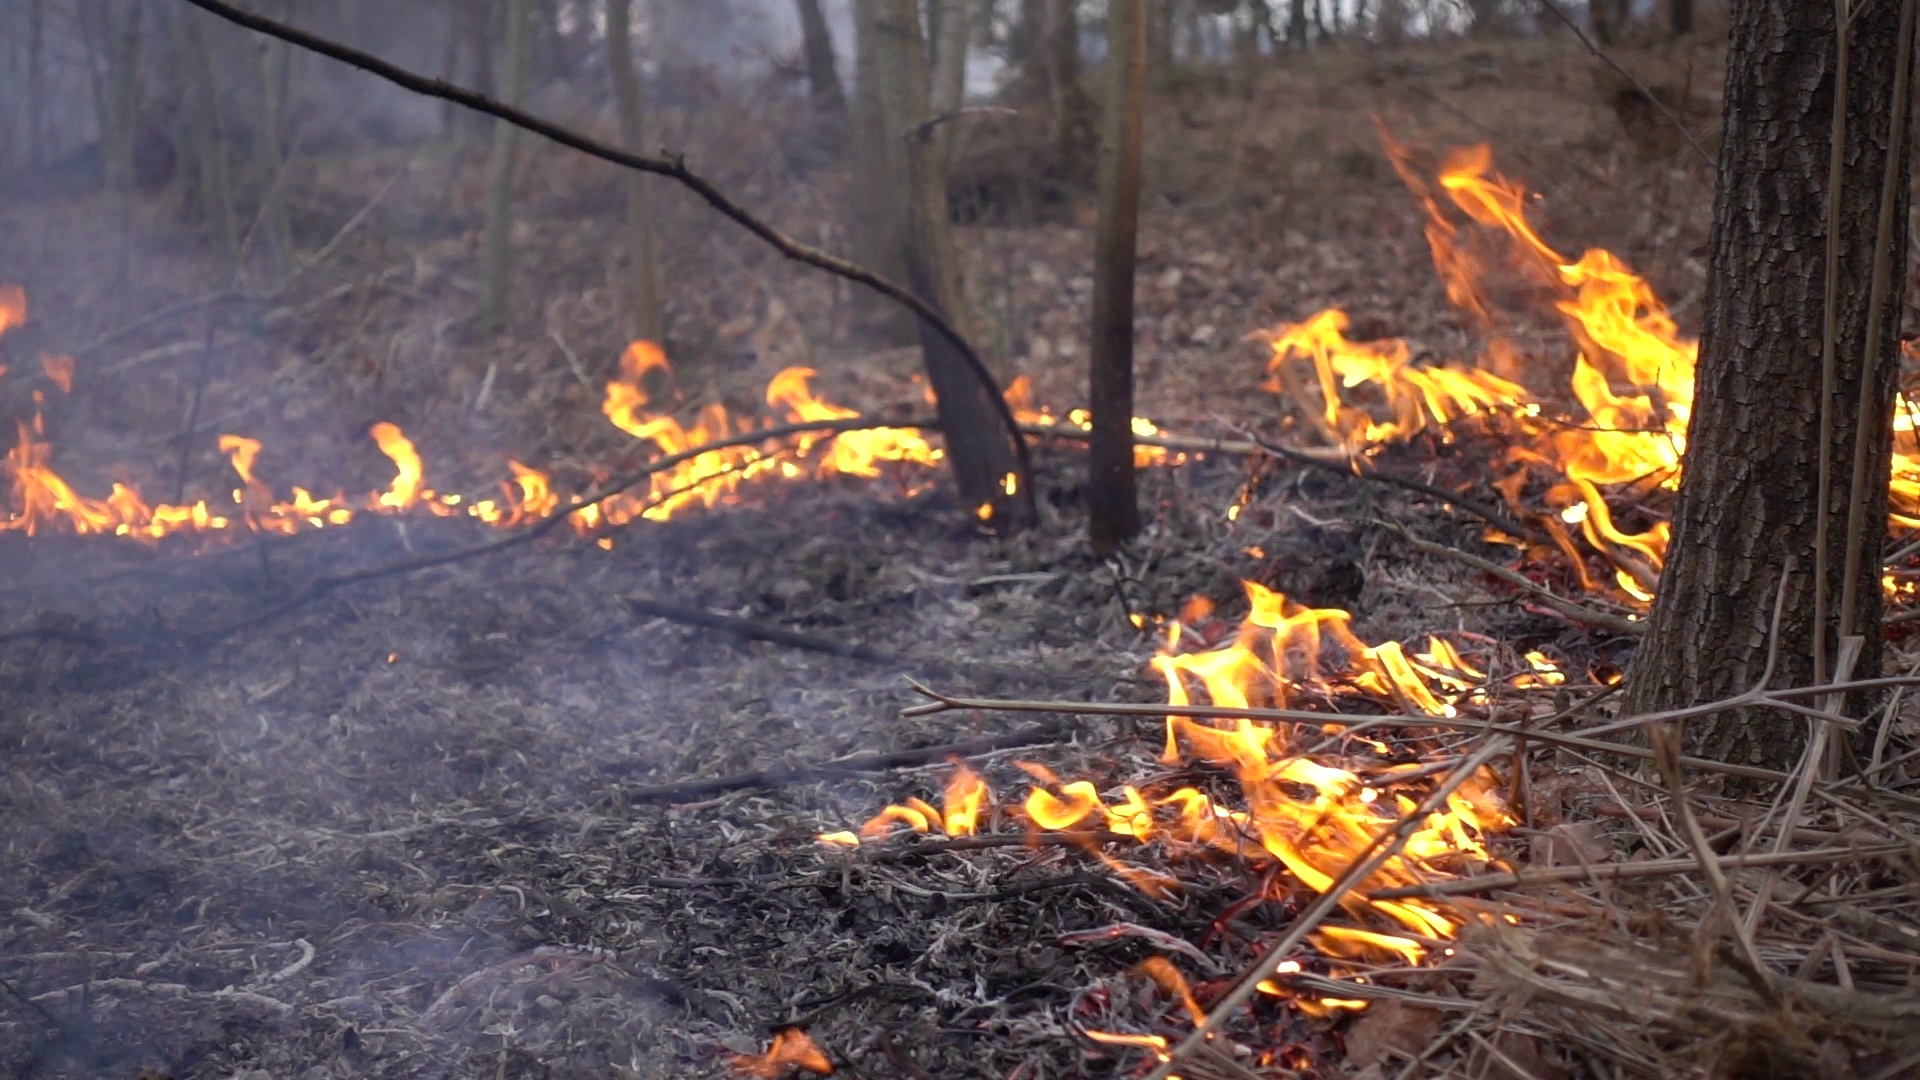fire: (837, 589, 1502, 945), (1288, 146, 1692, 580), (596, 338, 931, 521), (11, 419, 553, 531), (1892, 393, 1920, 538)
